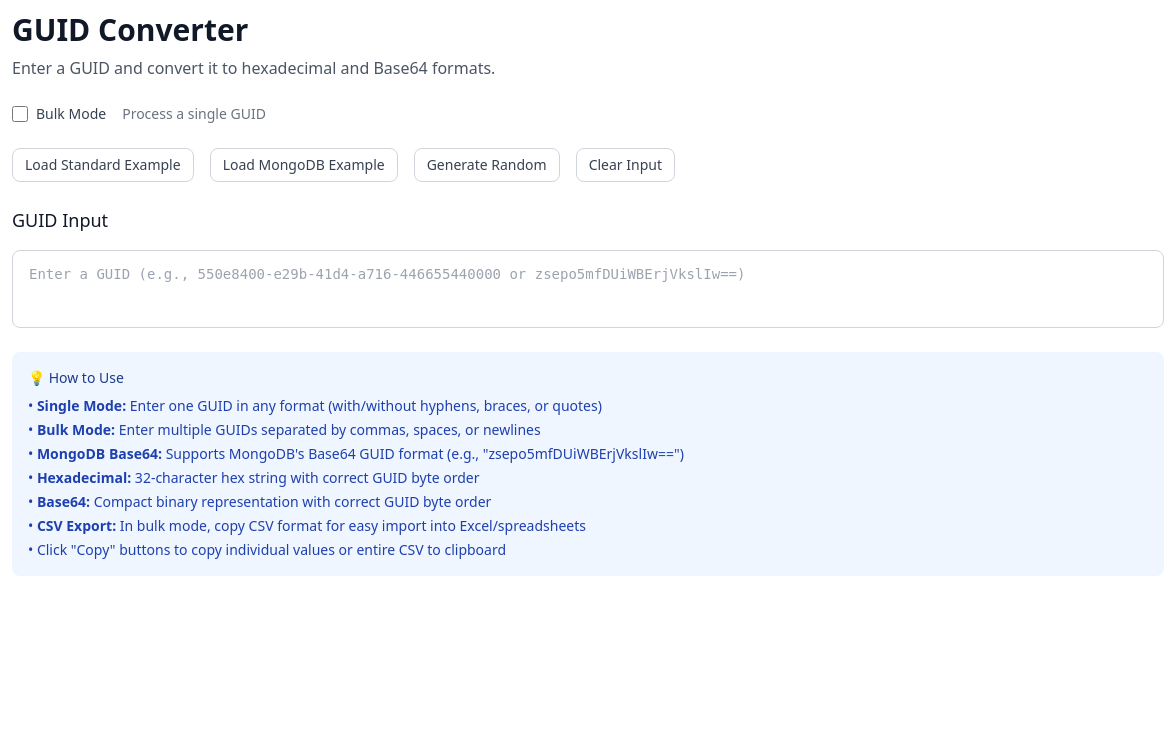
Test case: GuidConverter › Single Mode - Basic Functionality › should show error for invalid GUID
Replace the text in the text box with "invalid-guid" at x=588, y=286, box [13, 251, 1163, 320]
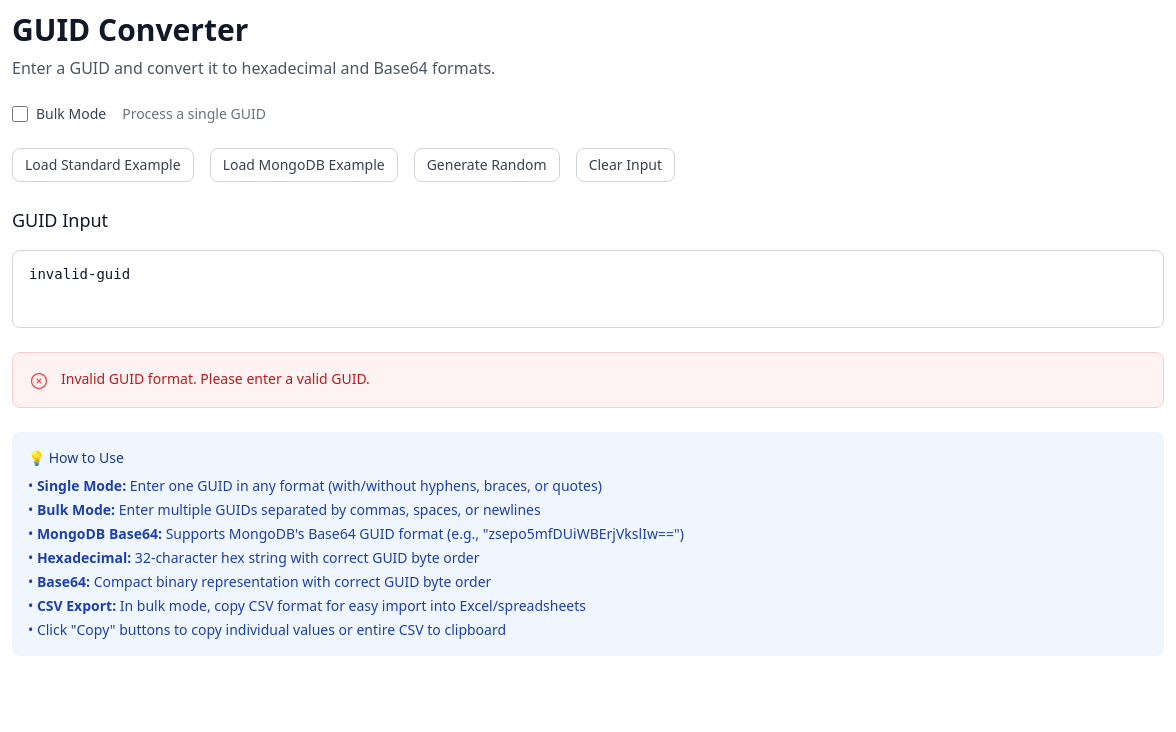
Expected: the text "Invalid GUID format. Please enter a valid GUID." is shown, [61, 368, 370, 388]
